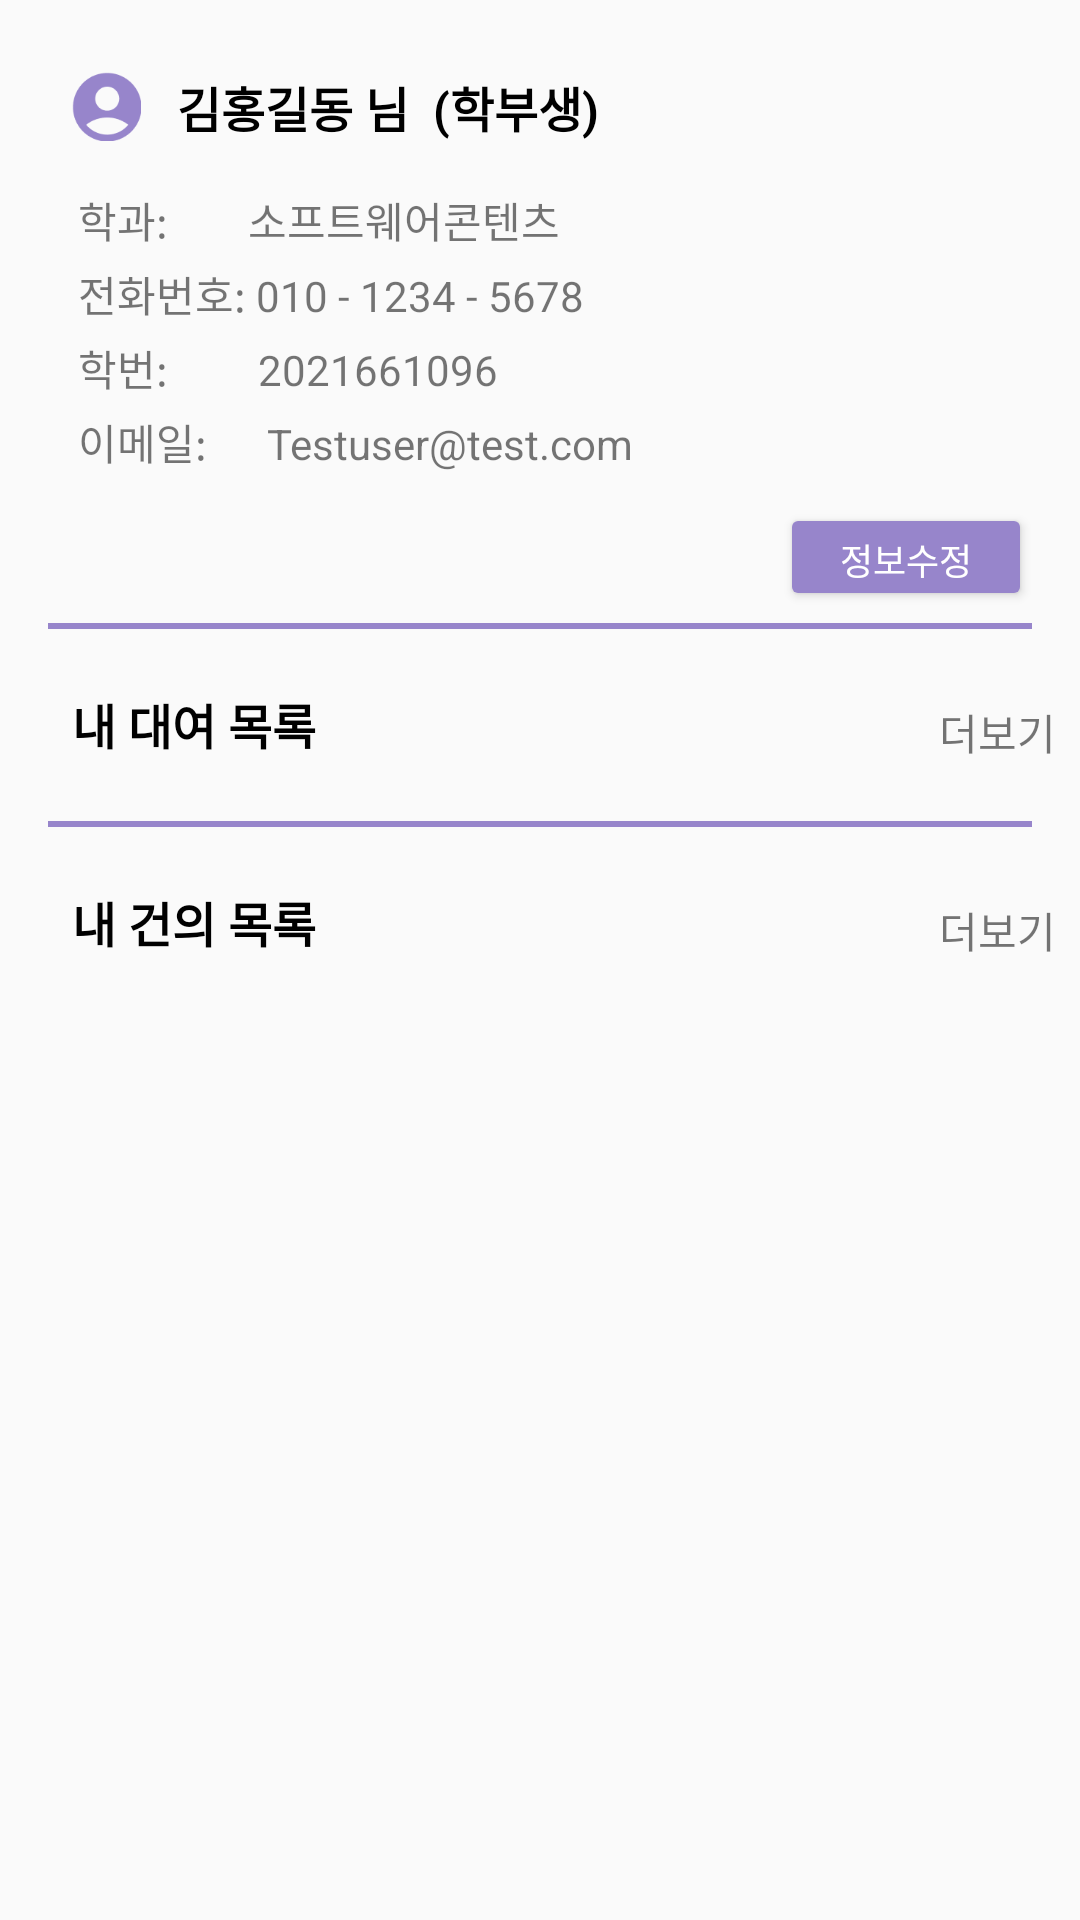

Named icons in this screenshot (1080x1920) and their centers, (x=x, y=y):
profile: (x=107, y=107)
